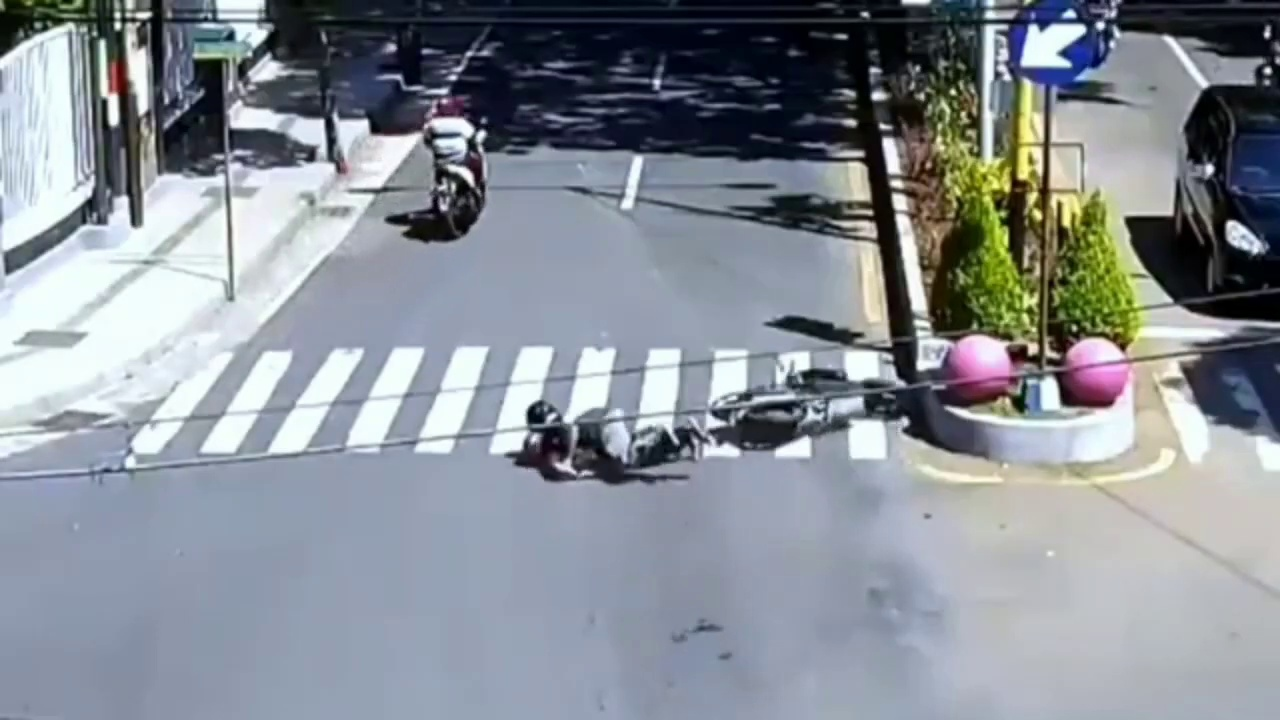car: (1166, 92, 1280, 318)
motorbike: (421, 94, 493, 243)
